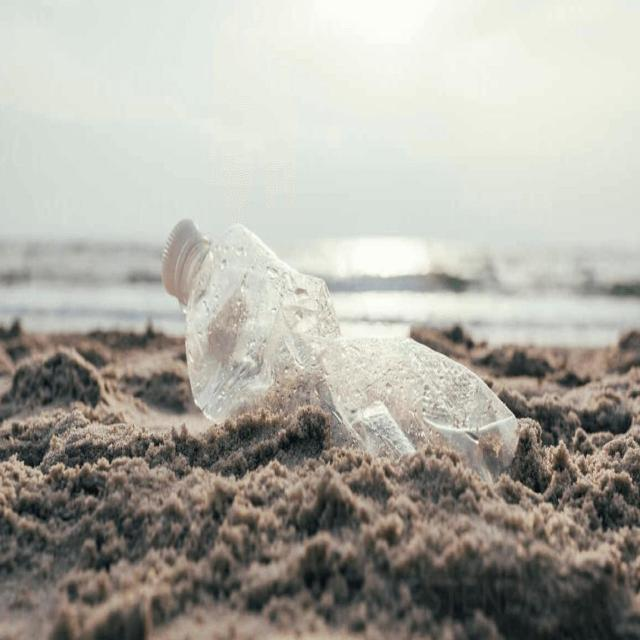plastic bottle: (182, 226, 519, 472)
plastic bottle cap: (161, 216, 213, 294)
